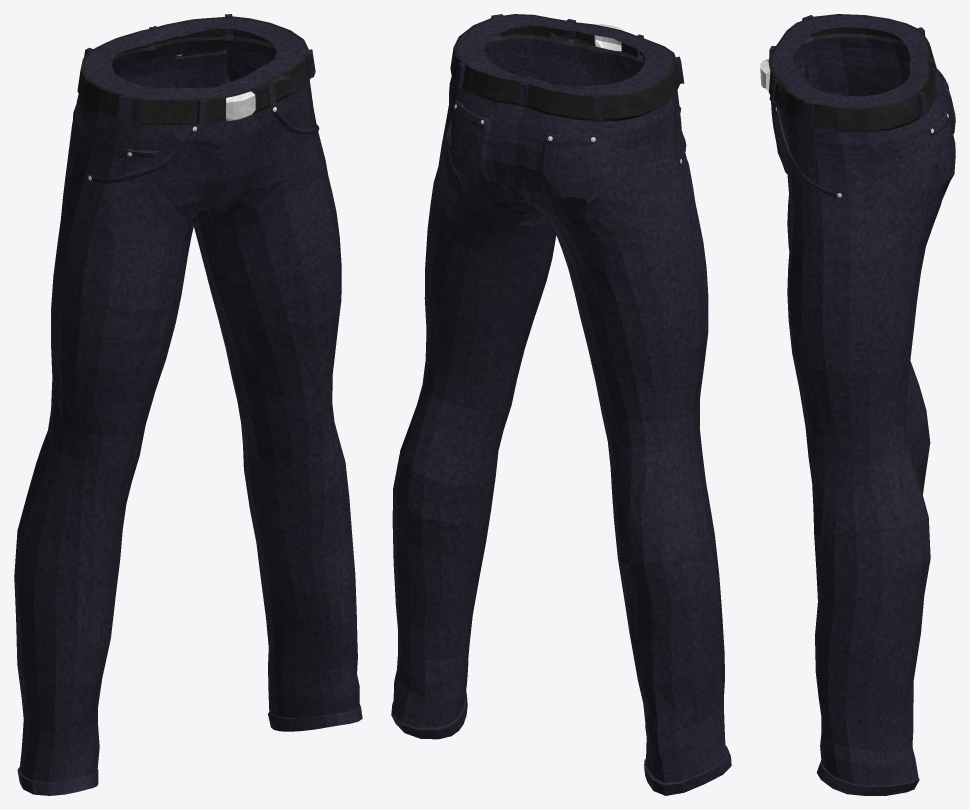
Rendered from mhw_elvs_jeans_straight_leg.glb.
The picture shows the model from 3 angles, left to right: view 1: azimuth 30°, elevation 25°; view 2: azimuth 150°, elevation 25°; view 3: azimuth 270°, elevation 25°; orthographic projection. The views are drawn at different scales.
Visible parts, largest first — view 1: mhw_elvs_jeans_straight_leg; view 2: mhw_elvs_jeans_straight_leg; view 3: mhw_elvs_jeans_straight_leg.
Part boxes in pixels (bbox=[...]): mhw_elvs_jeans_straight_leg: bbox=[14, 14, 362, 795]; mhw_elvs_jeans_straight_leg: bbox=[391, 14, 731, 795]; mhw_elvs_jeans_straight_leg: bbox=[760, 14, 955, 795].
Size of the model in its own units: 0.5251 by 1.08 by 0.2836.
Materials: 1 (1 with a texture image).
